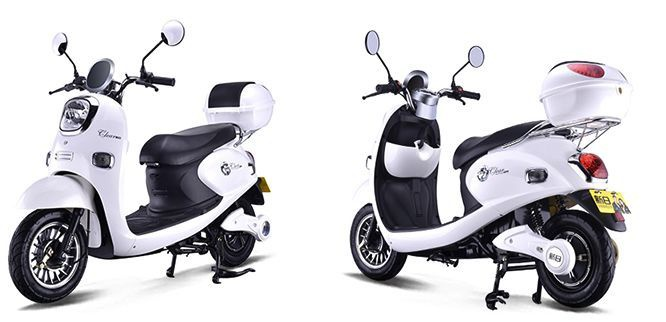non-vehicle: (347, 53, 632, 310), (7, 59, 277, 303)
